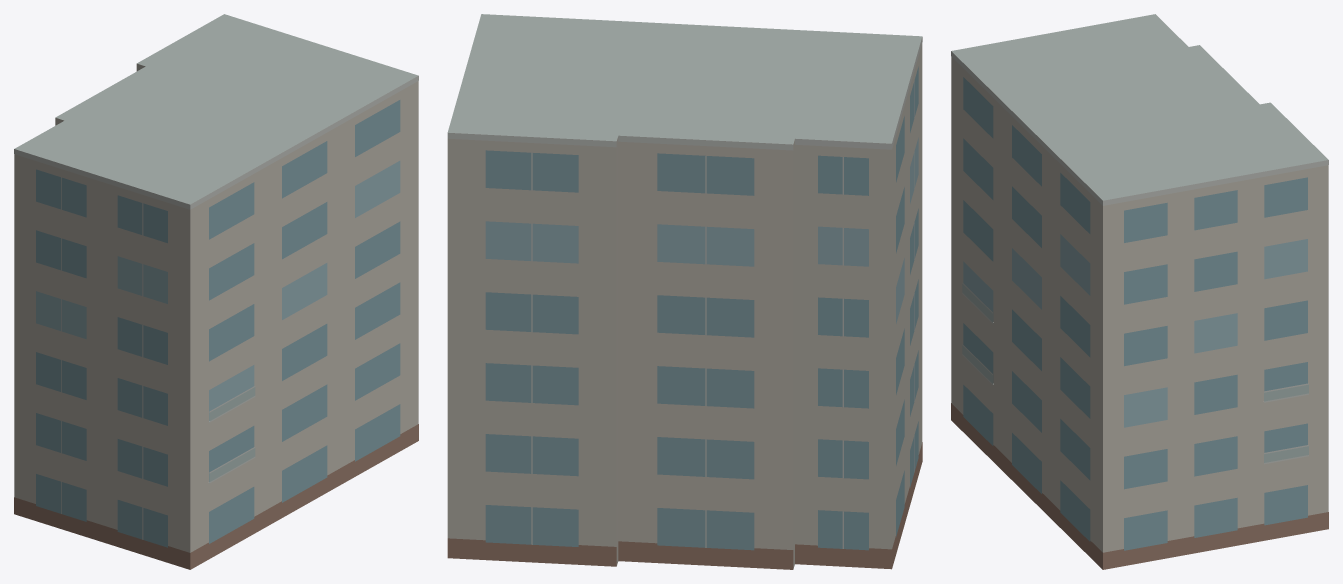
The model's file is survey-upis-32591873.glb.
3 renders of one model, left to right at view 1: azimuth 30°, elevation 25°; view 2: azimuth 150°, elevation 25°; view 3: azimuth 270°, elevation 25°, orthographic. The views are drawn at different scales.
Visible parts, largest first — view 1: survey-upis-32591873.tmp; view 2: survey-upis-32591873.tmp; view 3: survey-upis-32591873.tmp.
Part boxes in pixels (box(x1,y1,x2,y2)): survey-upis-32591873.tmp: box(14, 14, 418, 569); survey-upis-32591873.tmp: box(447, 14, 922, 569); survey-upis-32591873.tmp: box(951, 14, 1328, 569).
Bounding box in the file's own units: 18.78 × 17.3 × 16.05.
